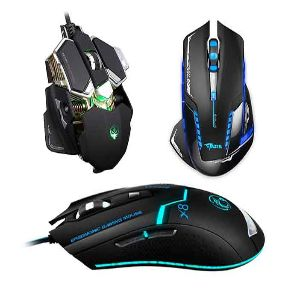mouse: (36, 183, 271, 270), (36, 11, 137, 176), (169, 15, 256, 176)
